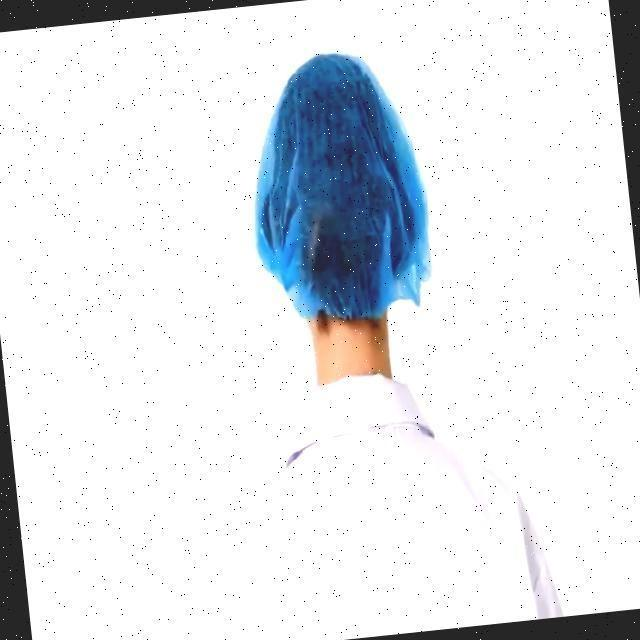gloves: (267, 67, 413, 310)
